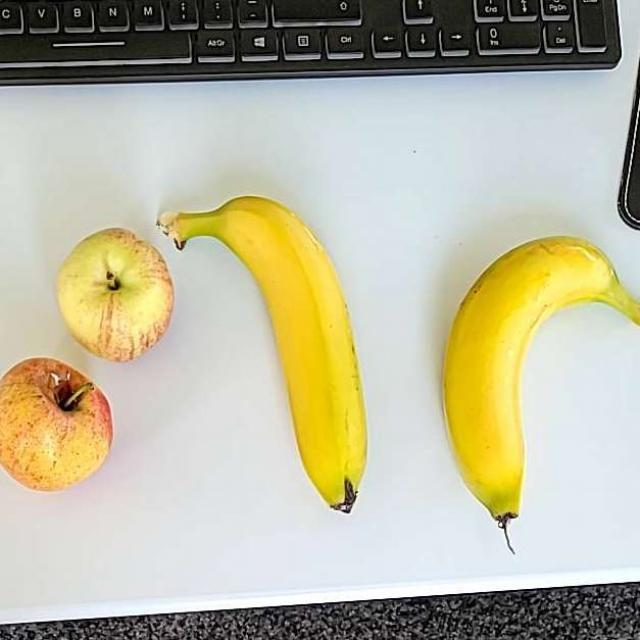apple: (12, 226, 186, 488)
banana: (210, 187, 615, 525)
